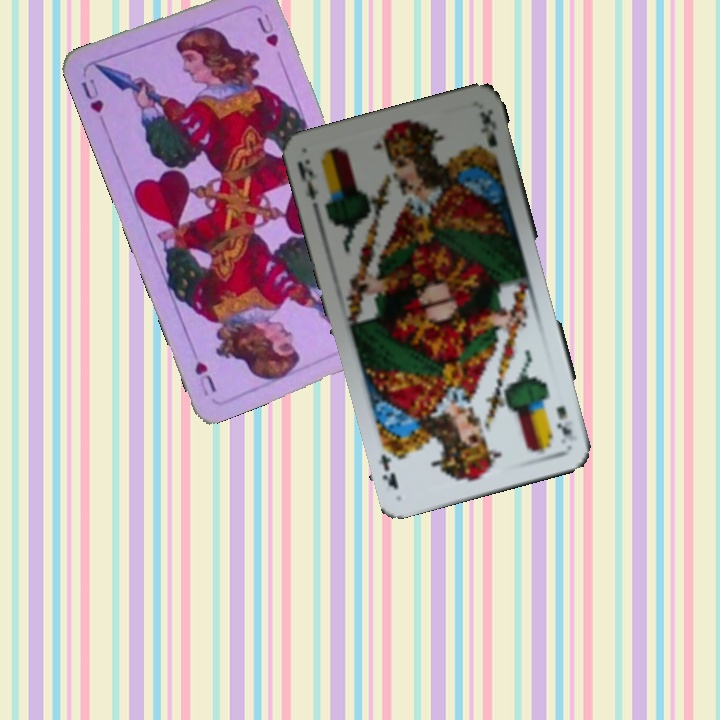EK: (293, 157, 322, 203), (552, 401, 576, 440)
HU: (76, 74, 106, 116)
